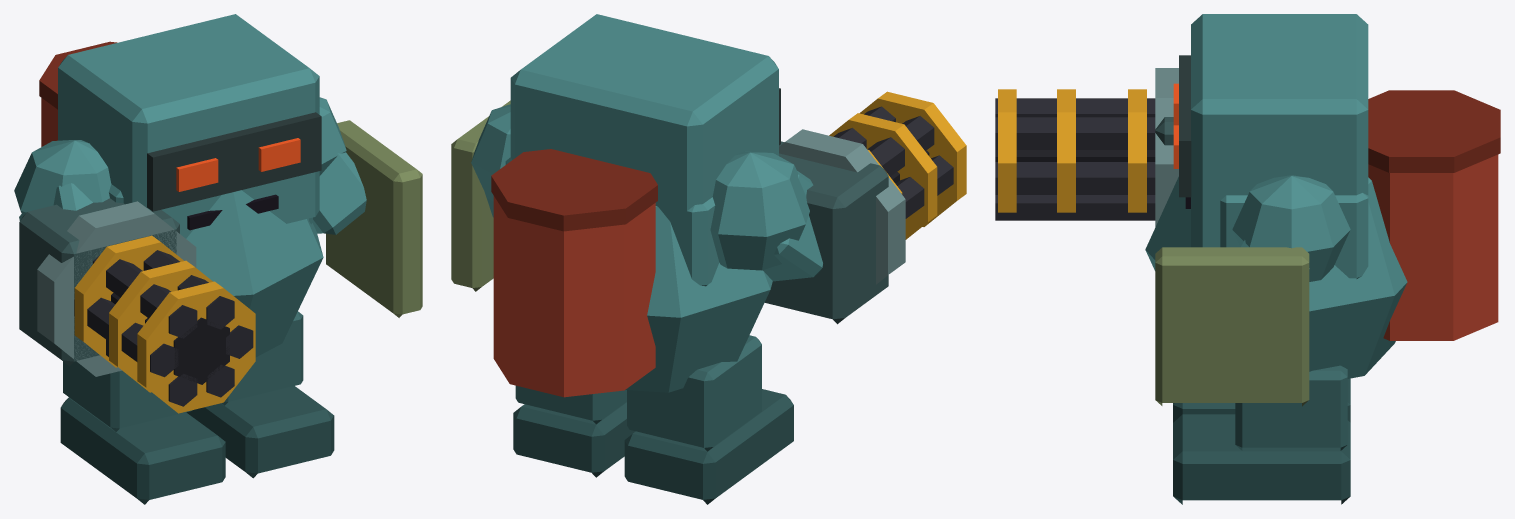
File: r7_mini_turbine_gunner.glb
3 renders of one model, left to right at view 1: azimuth 30°, elevation 25°; view 2: azimuth 150°, elevation 25°; view 3: azimuth 270°, elevation 25°, orthographic. The views are drawn at different scales.
Visible parts, largest first — view 1: r7_mini_turbine_gunner_mesh; view 2: r7_mini_turbine_gunner_mesh; view 3: r7_mini_turbine_gunner_mesh.
Boxes of the visible parts, x1,y1,x2,y2 form: r7_mini_turbine_gunner_mesh: (14,14,422,504); r7_mini_turbine_gunner_mesh: (451,14,966,504); r7_mini_turbine_gunner_mesh: (995,14,1500,504).
Size of the model in its own units: 3.82 by 3.8 by 4.32.
Materials: 1 (1 with a texture image).
